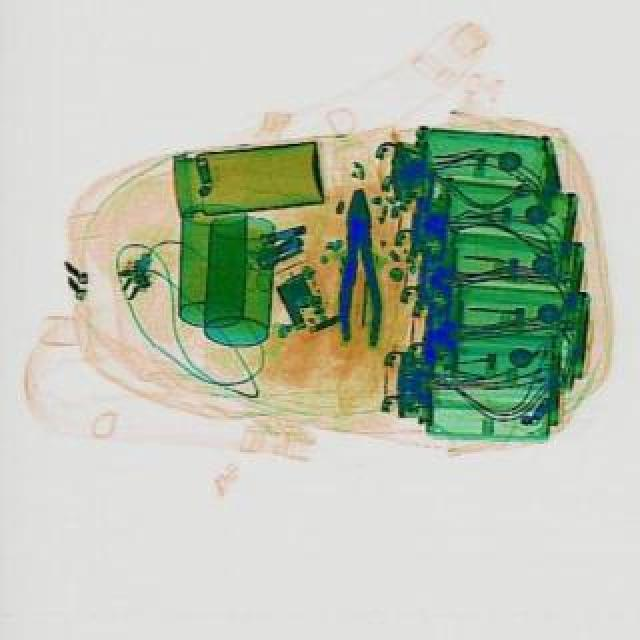wrench: (336, 188, 382, 348)
